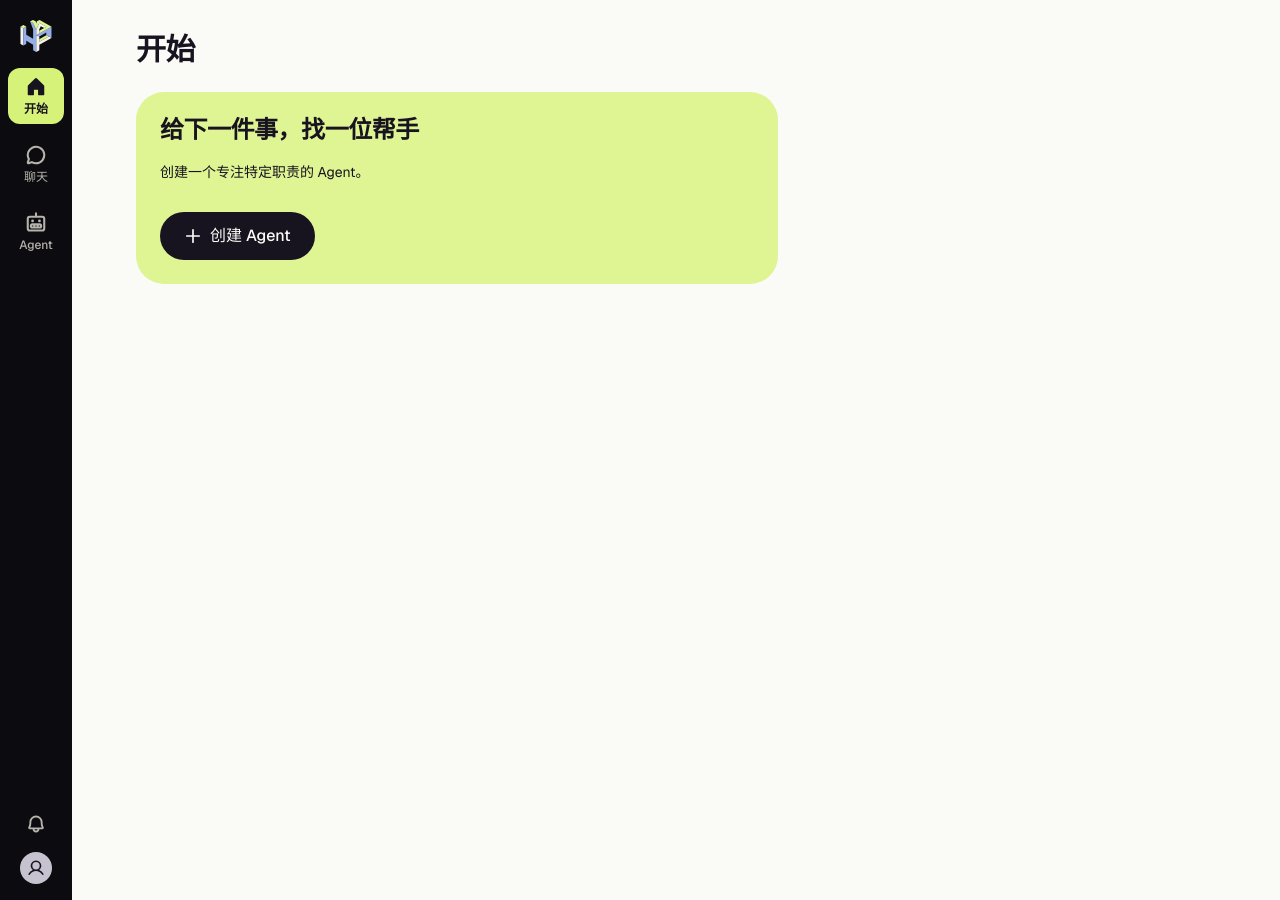
Scenario: J3 three entries › TC-002 TC-004 opens the most recent conversation from the start page
Click the button "聊天": click(36, 164) [8,136,64,192]
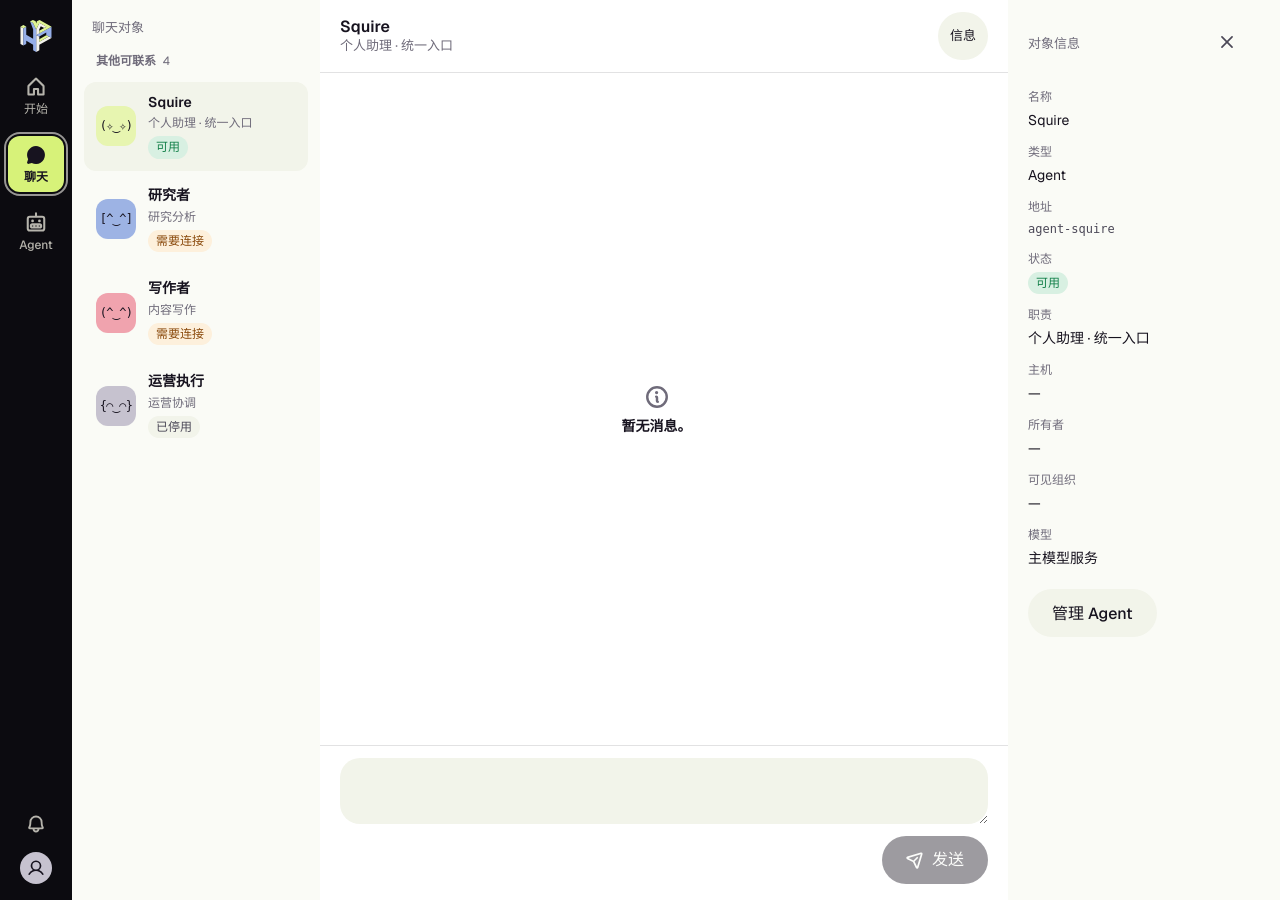
Click the button "[^‿^] 研究者 研究分析 需要连接": click(196, 219) [84,175,308,264]
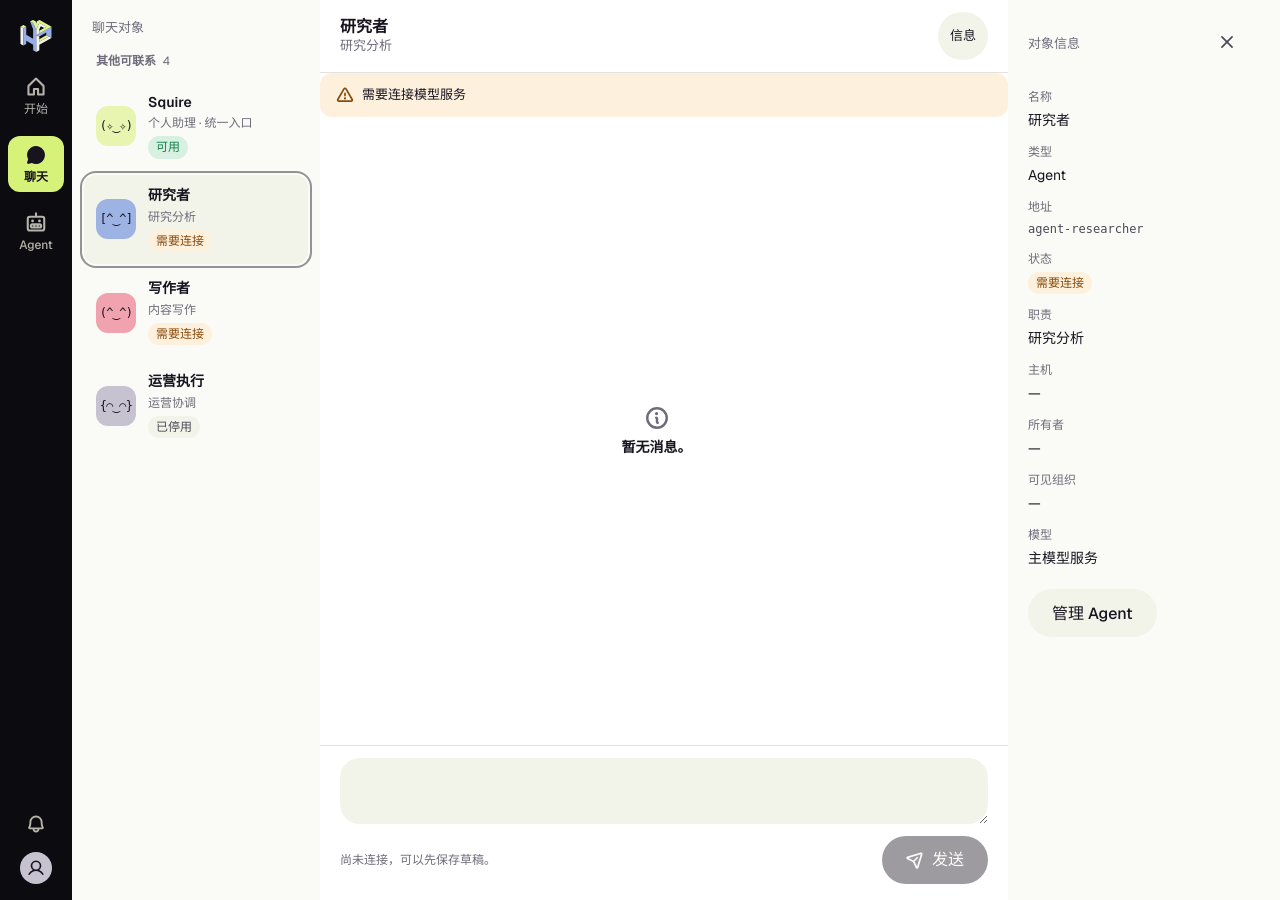
Click the button "开始": click(36, 96) [8,68,64,124]
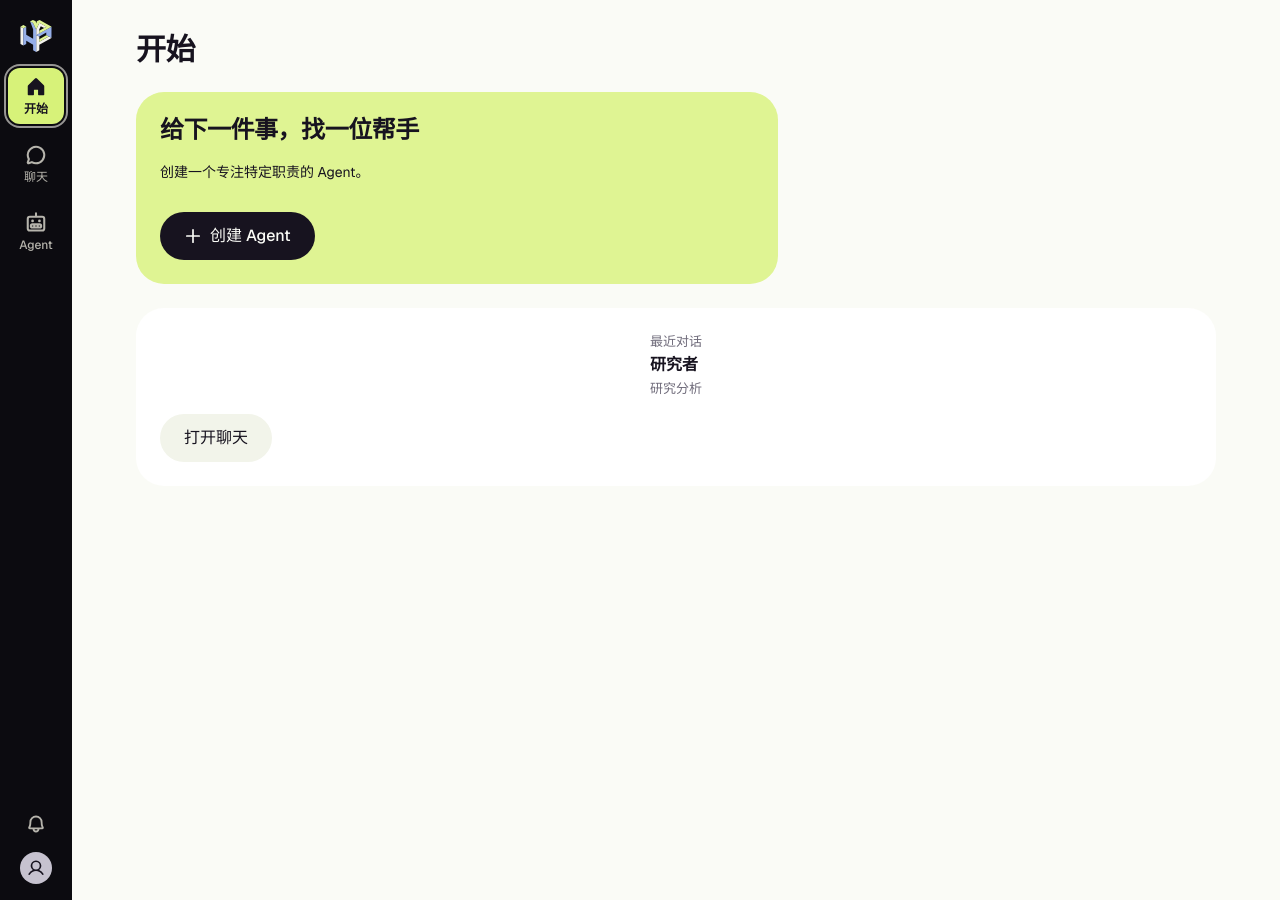
Expected: the element "打开聊天" is shown, [136,308,1216,486]
Expected: the element "打开聊天" shows "研究者", [650,354,698,375]
Click the button "打开聊天": click(216, 438) [160,414,272,462]
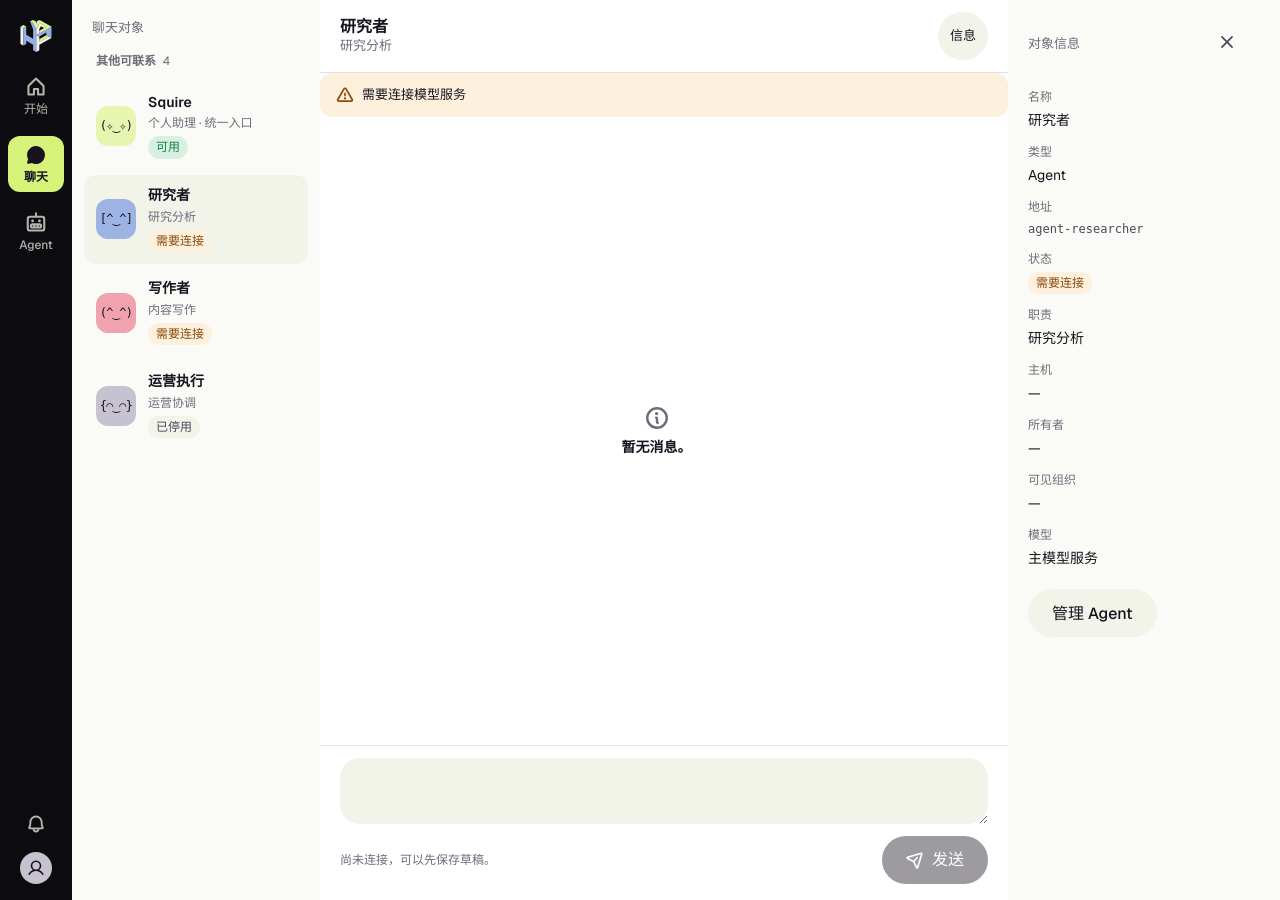
Expected: the heading "研究者" is shown, [340,17,392,36]
